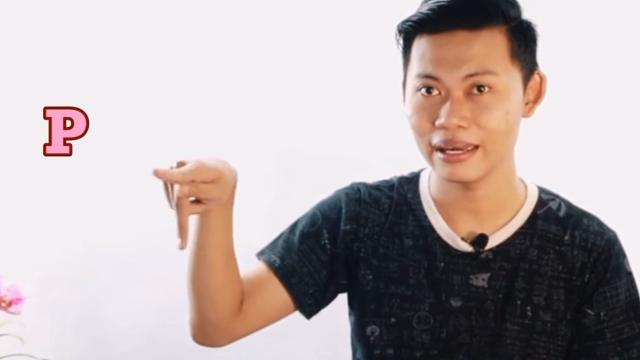P: (150, 154, 246, 254)
